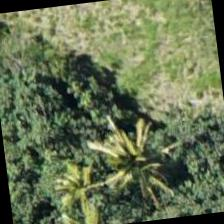Kelapa_Sawit: (76, 105, 176, 204), (28, 134, 129, 223)
